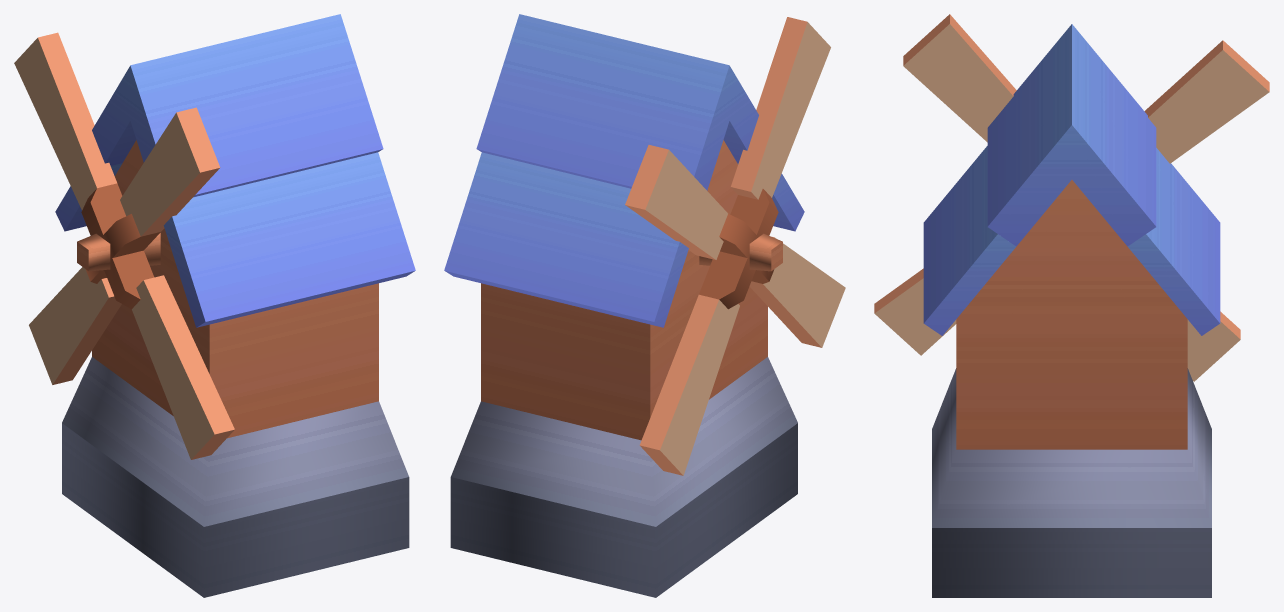
File: unit-mill.glb
The picture shows the model from 3 angles, left to right: view 1: azimuth 30°, elevation 25°; view 2: azimuth 150°, elevation 25°; view 3: azimuth 270°, elevation 25°; orthographic projection.
Parts seen in each view (by area): view 1: unit-mill, rotate-x; view 2: unit-mill, rotate-x; view 3: unit-mill, rotate-x.
Part boxes in pixels (x1,y1,x2,y2): unit-mill: (55, 14, 415, 597); rotate-x: (14, 32, 234, 459); unit-mill: (444, 14, 804, 597); rotate-x: (625, 17, 845, 475); unit-mill: (923, 24, 1220, 597); rotate-x: (874, 14, 1269, 381).
Bounding box in the file's own units: 0.38 × 0.6811 × 0.5121.
Materials: 1 (1 with a texture image).
